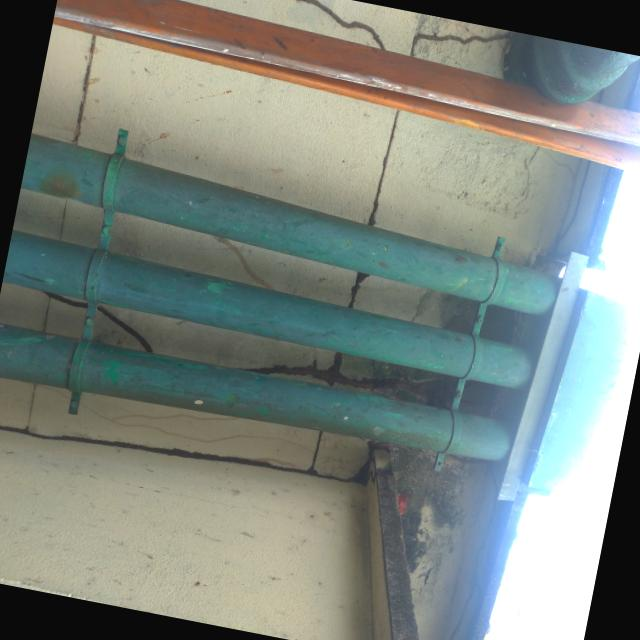gas: (24, 135, 548, 315), (2, 230, 530, 388), (0, 326, 510, 457)
